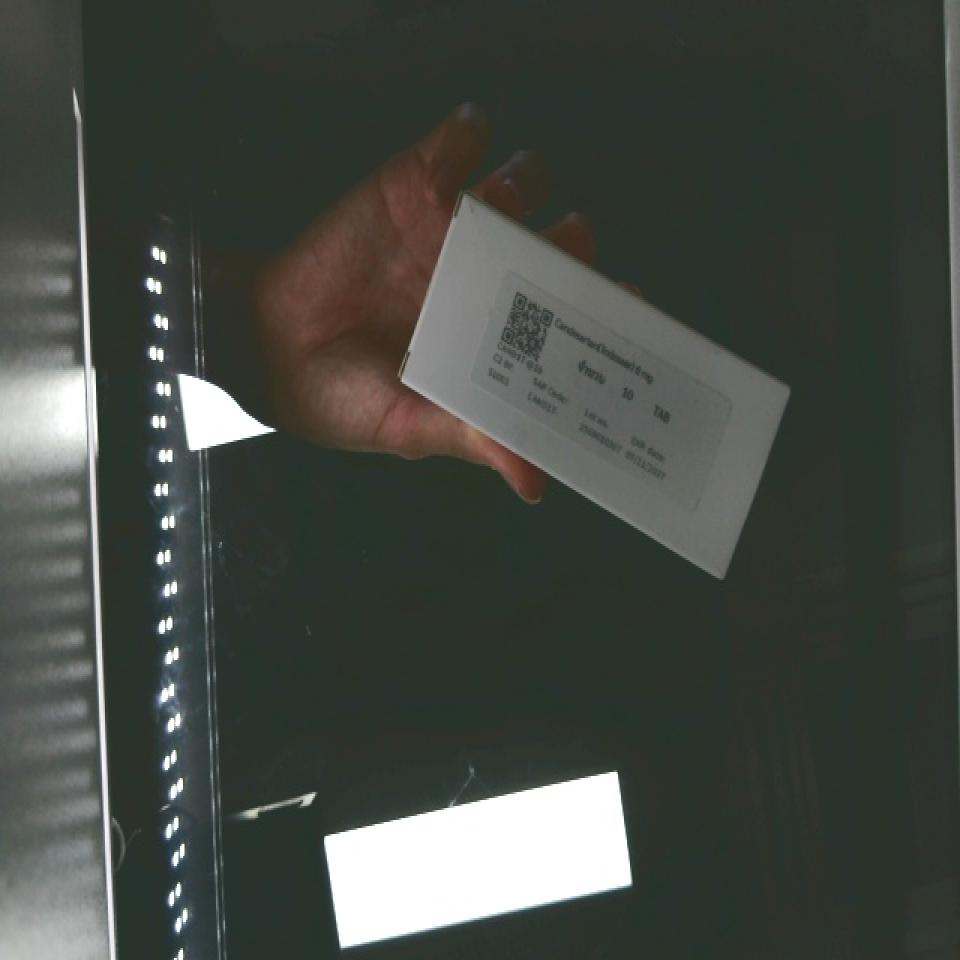medicine_box: (359, 199, 818, 580)
qr_code: (475, 274, 573, 389)
